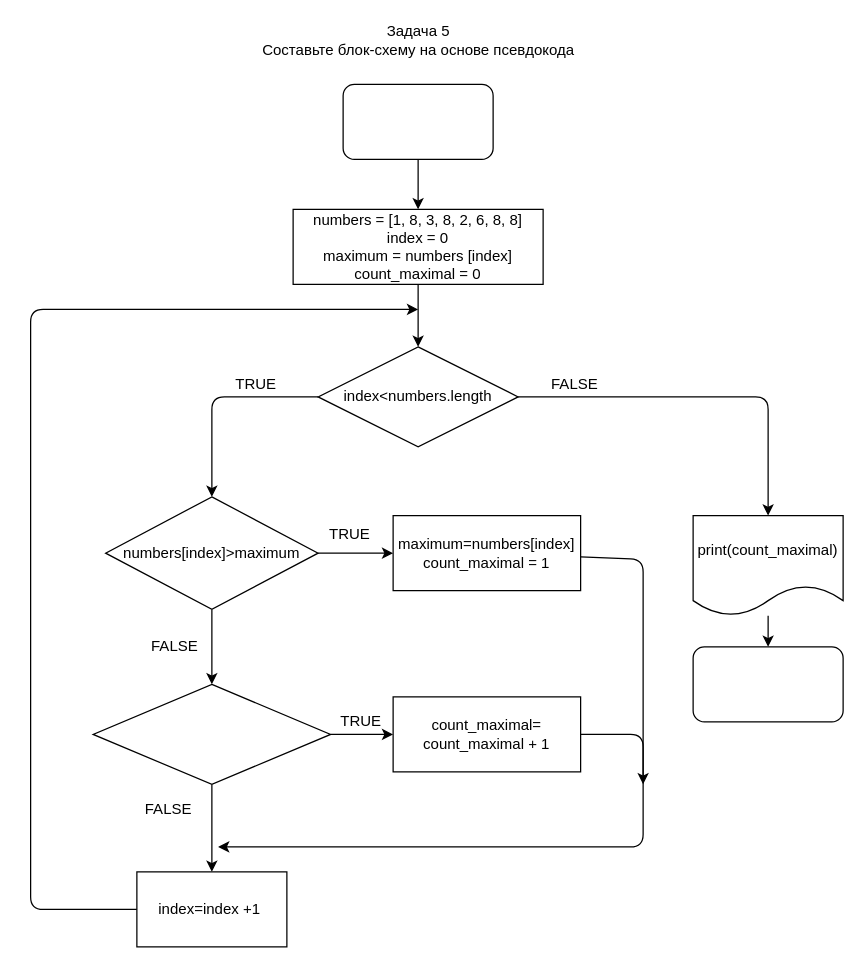
The diagram is 865 pixels wide and 969 high, and some of its shapes have lost their labels. Each missing label, with the centre of its shape:
"FINISH" belongs at (767,684).
"numbers[index] == maximum" belongs at (211,733).
"START" belongs at (417,121).
